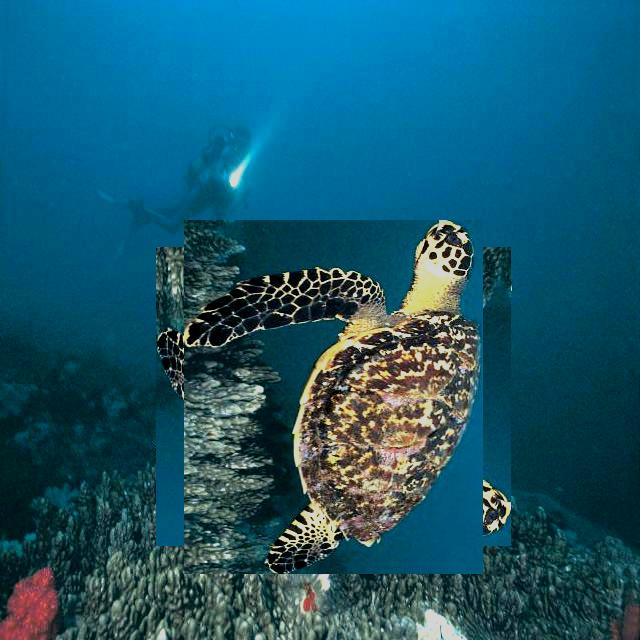Sea turtle: (170, 233, 497, 560)
